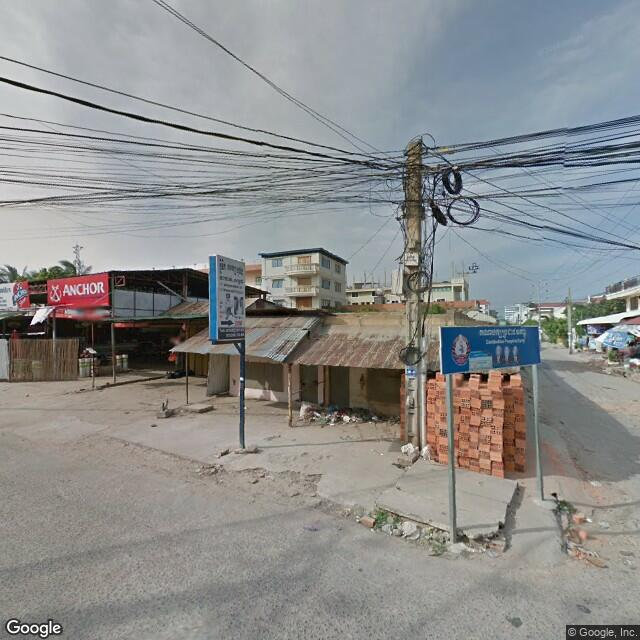litter: (302, 398, 379, 431), (578, 546, 617, 574), (549, 487, 580, 520), (372, 508, 390, 533)
